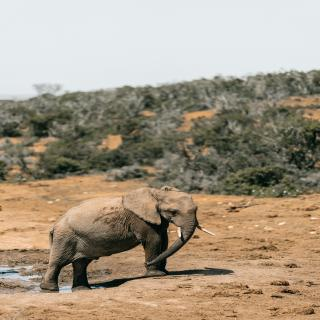Elephant: (42, 184, 218, 293)
